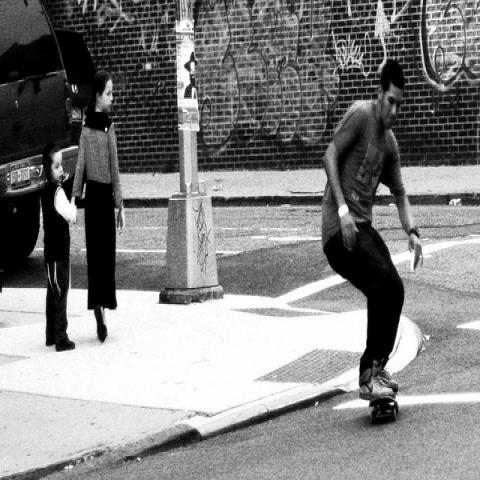car: (1, 0, 80, 269), (55, 29, 94, 150)
